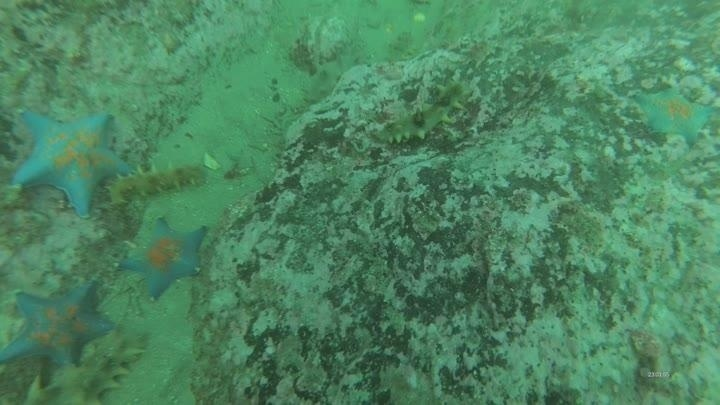holothurian: (41, 328, 149, 404), (372, 75, 473, 149), (103, 161, 207, 207), (295, 44, 362, 112)
starfish: (6, 104, 136, 219), (0, 279, 117, 372), (118, 216, 210, 301), (631, 84, 717, 148)
